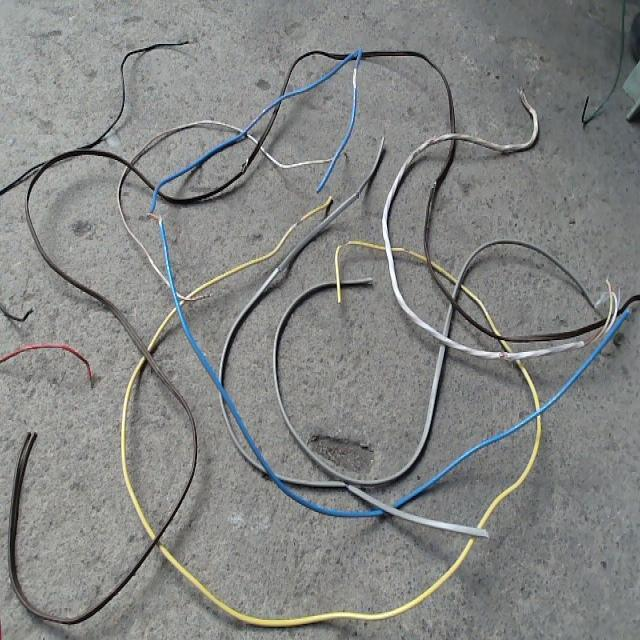-: (145, 210, 161, 222), (239, 157, 248, 171), (497, 350, 511, 358), (351, 66, 356, 86), (295, 217, 302, 223), (403, 247, 411, 252)
